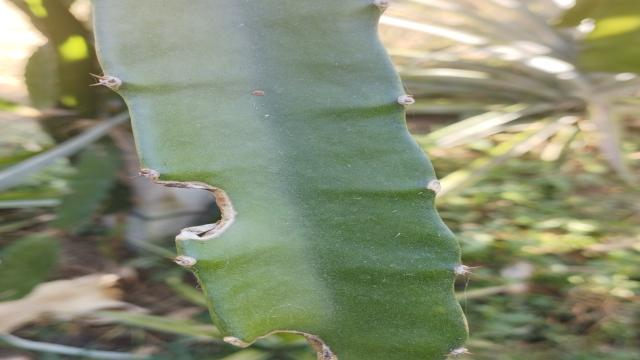stemcanker: (238, 85, 278, 102)
